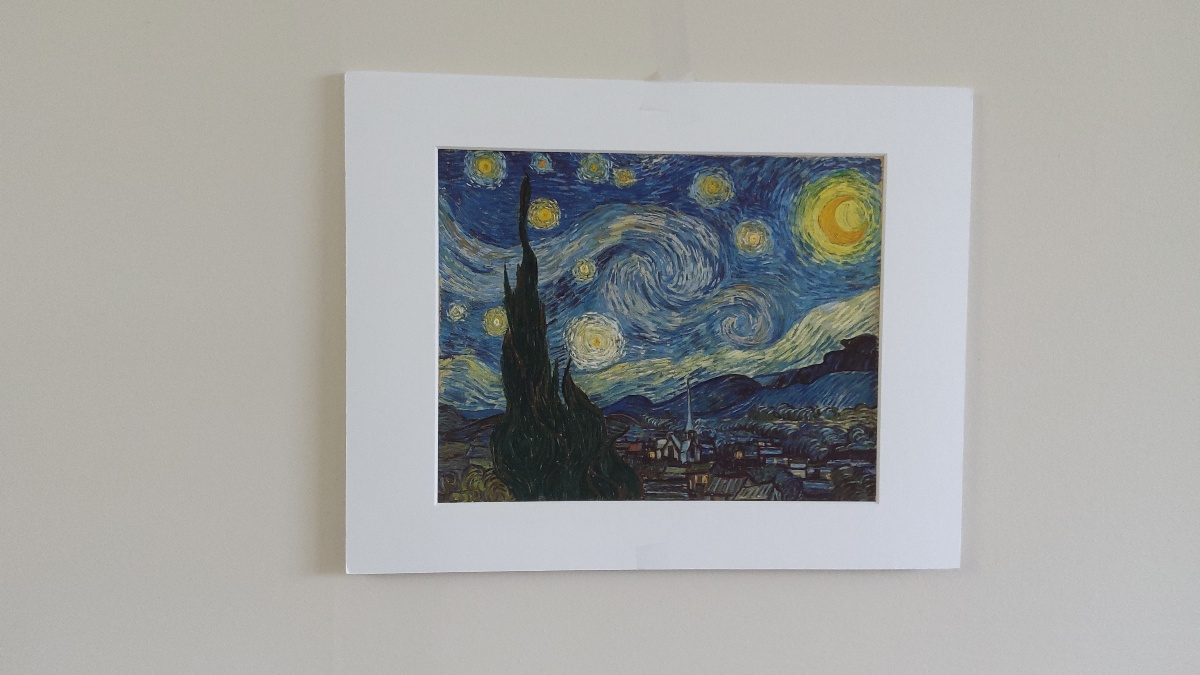painting: (425, 135, 891, 520)
